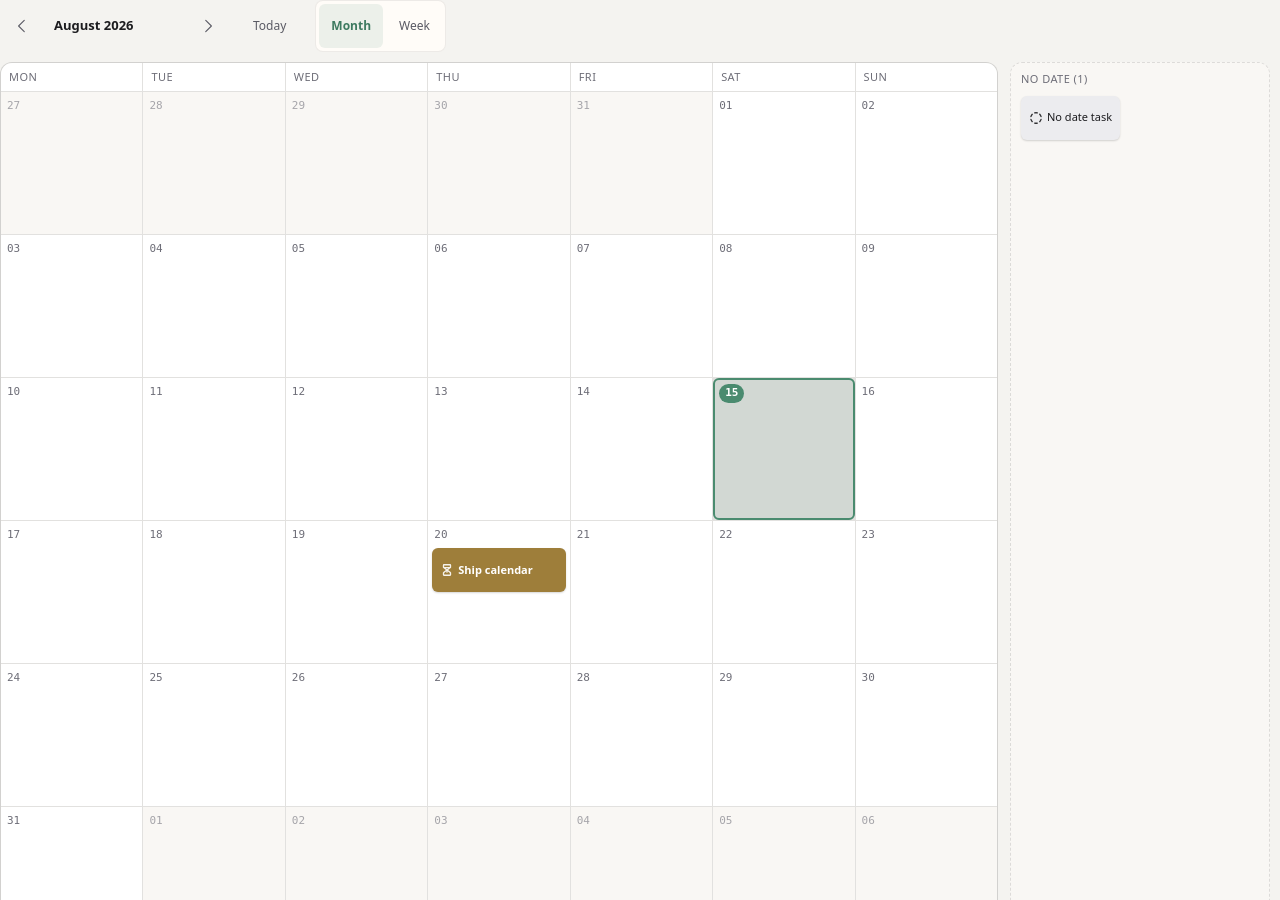
it: DueCalendar › navigates months with the prev and next buttons
Click the button named "Next month" at (208, 26), box [186, 4, 230, 48]
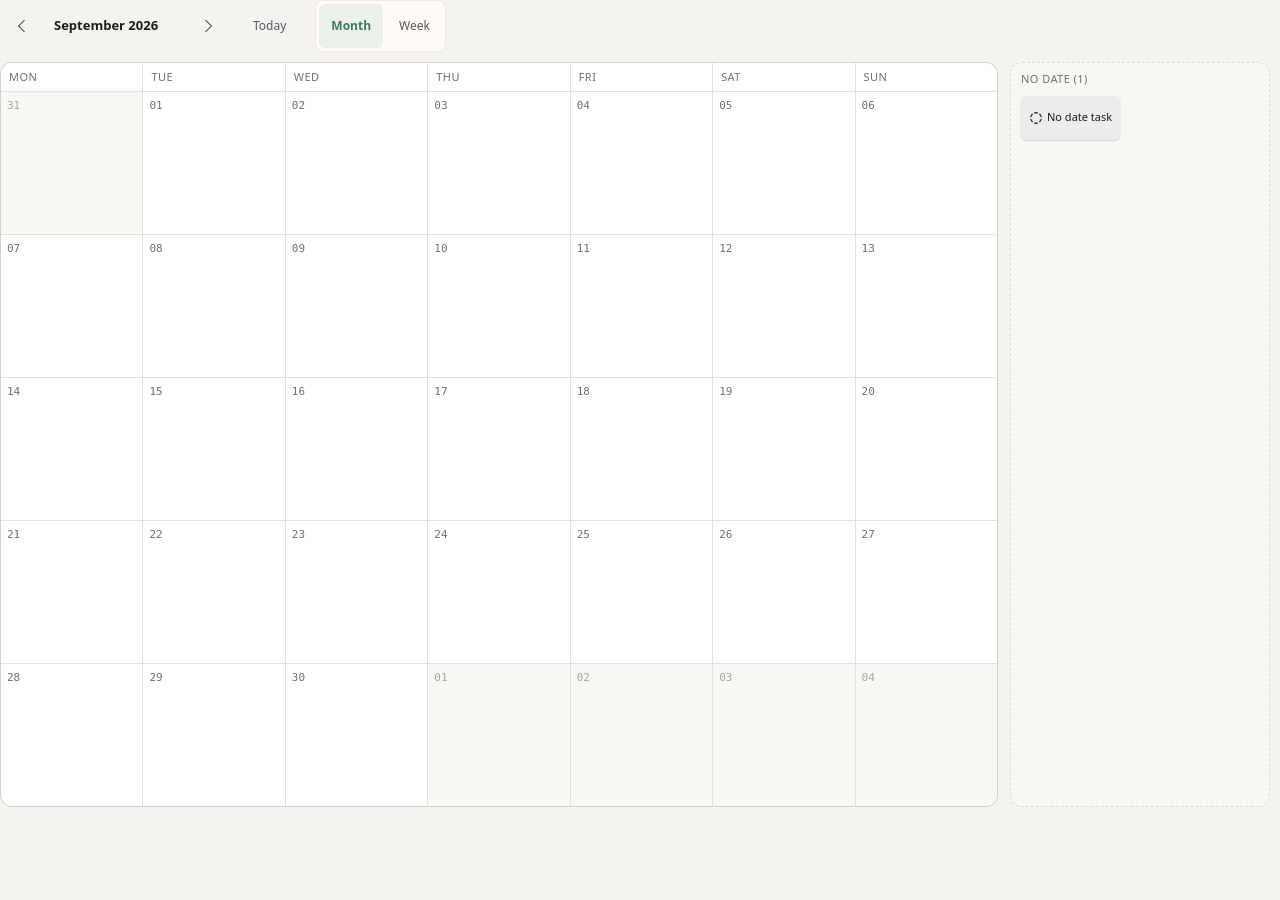
Expected: the button "September 2026" is shown, [50, 4, 180, 48]
Click the button named "Previous month" at (22, 26), box [0, 4, 44, 48]
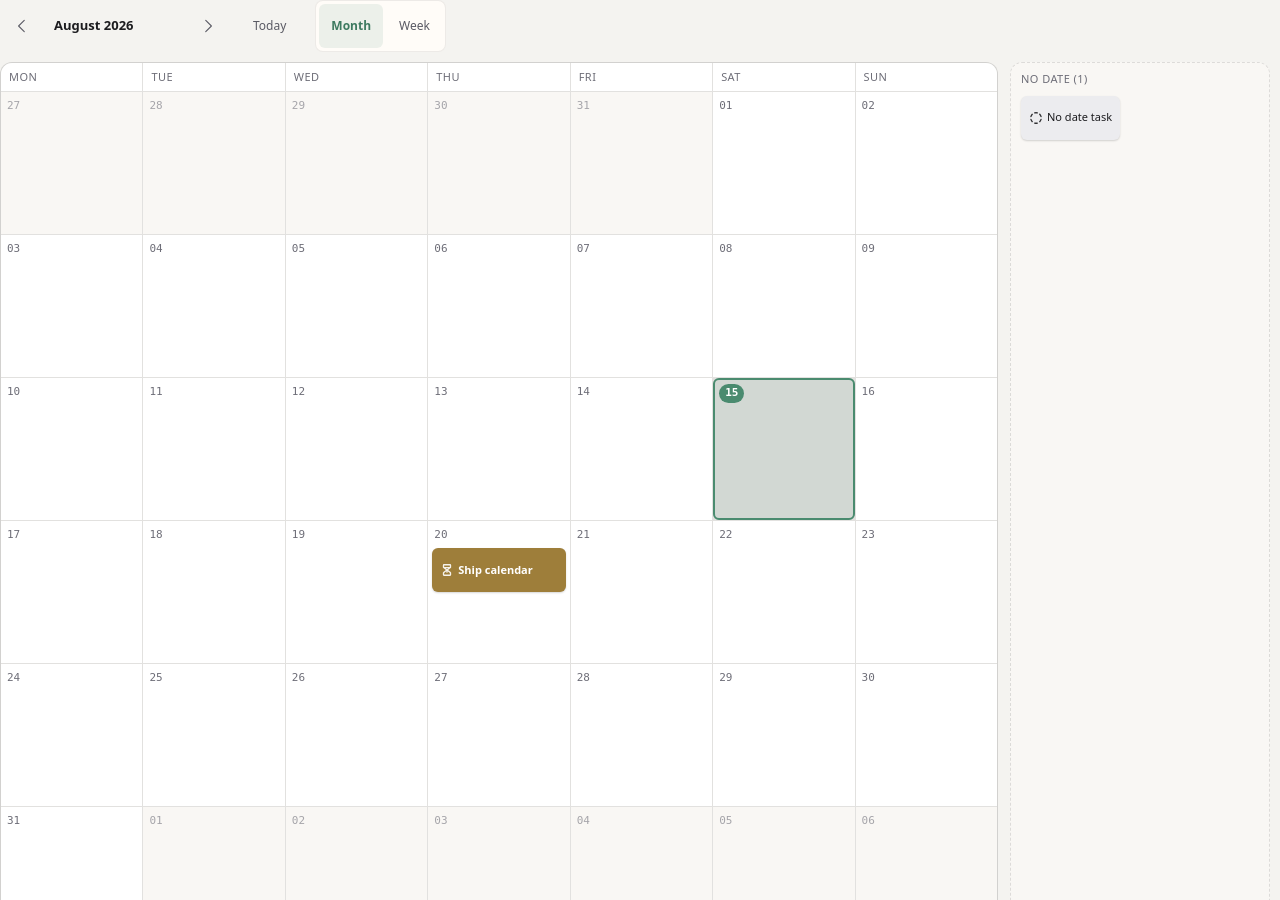
Expected: the button "August 2026" is shown, [50, 4, 180, 48]
